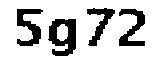2: (116, 7, 149, 50)
5: (12, 4, 45, 50)
7: (82, 3, 115, 51)
g: (45, 15, 81, 60)
